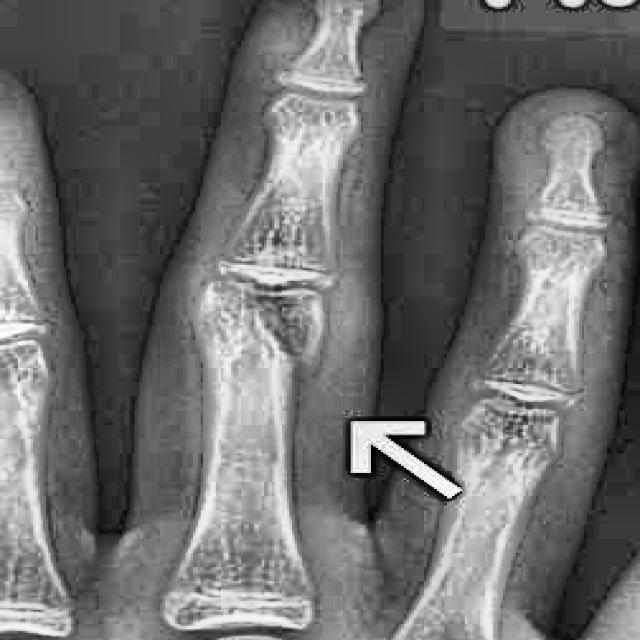fracture: (249, 316, 315, 378)
